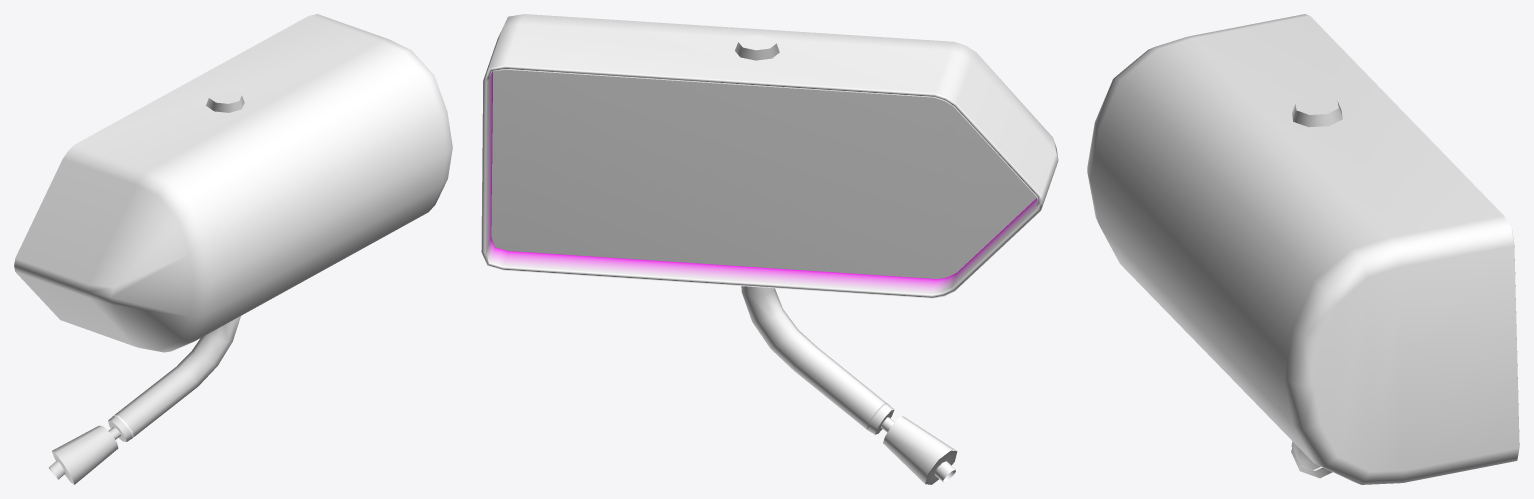
Rendered from Car_Ford_GT_2017_MirrorL_SetXU.fbx.
3 views of the same model, side by side, from view 1: azimuth 30°, elevation 25°; view 2: azimuth 150°, elevation 25°; view 3: azimuth 270°, elevation 25° (orthographic). The views are drawn at different scales.
Visible parts, largest first — view 1: MirrorL 6; view 2: MirrorL 6; view 3: MirrorL 6.
Part boxes in pixels (<box>): MirrorL 6: <box>14,14,452,484</box>; MirrorL 6: <box>481,14,1058,484</box>; MirrorL 6: <box>1087,14,1519,484</box>.
Size of the model in its own units: 0.1898 by 0.1407 by 0.116.
